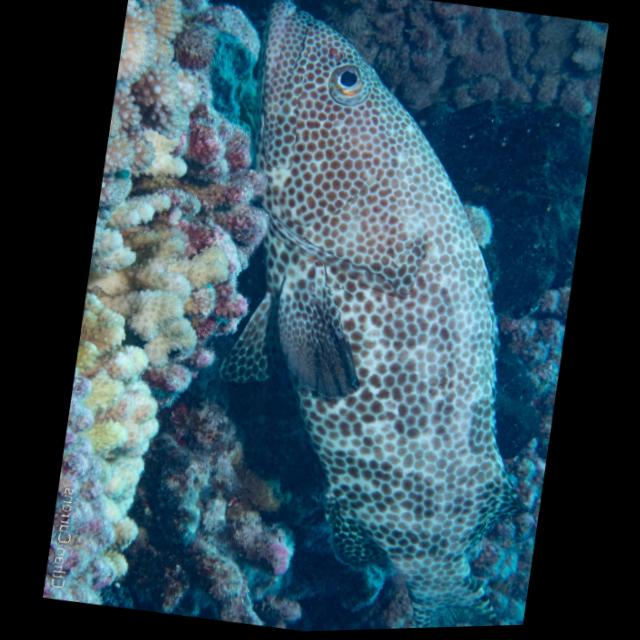Groupers: (171, 0, 597, 635)
